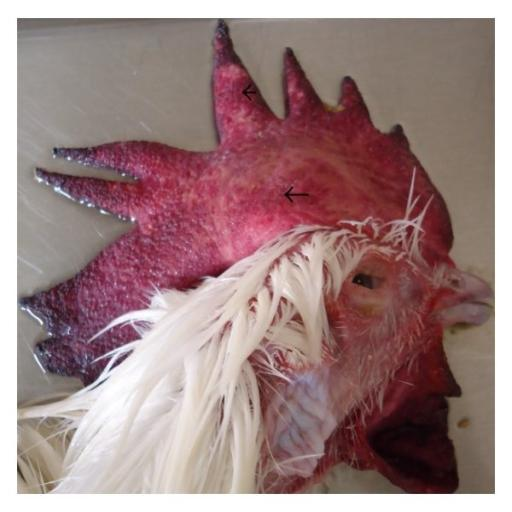disease: (179, 24, 429, 168), (310, 208, 427, 363)
